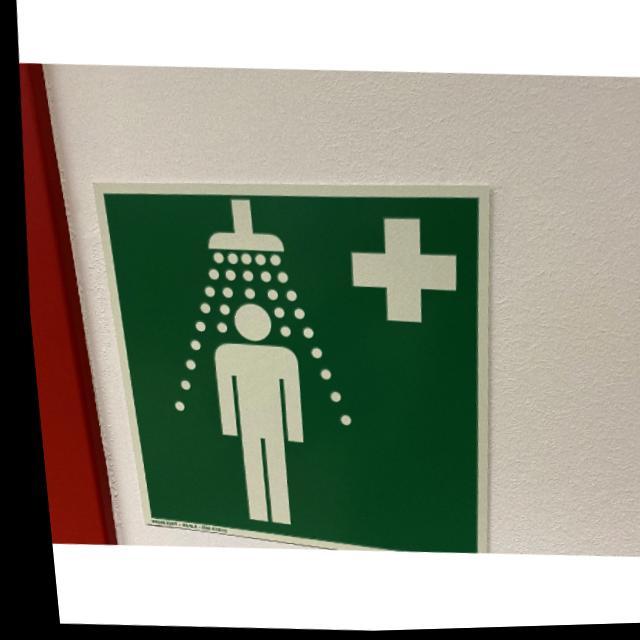shower: (68, 166, 512, 566)
